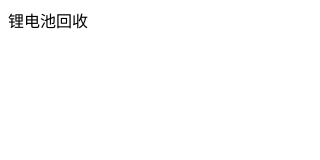
Test: WorkbenchSwitch › 最后一台不给归档——归档掉全部会让用户落到一个没有工作台的界面
The image size is (320, 160).
Click the button with test id "workbench-switch-trigger" at (48, 20), box [8,8,88,32]
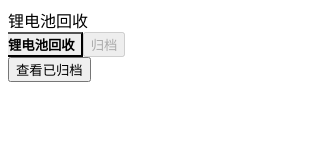
Expected: the button with test id "workbench-archive-g1" is disabled, [83,32,125,57]
